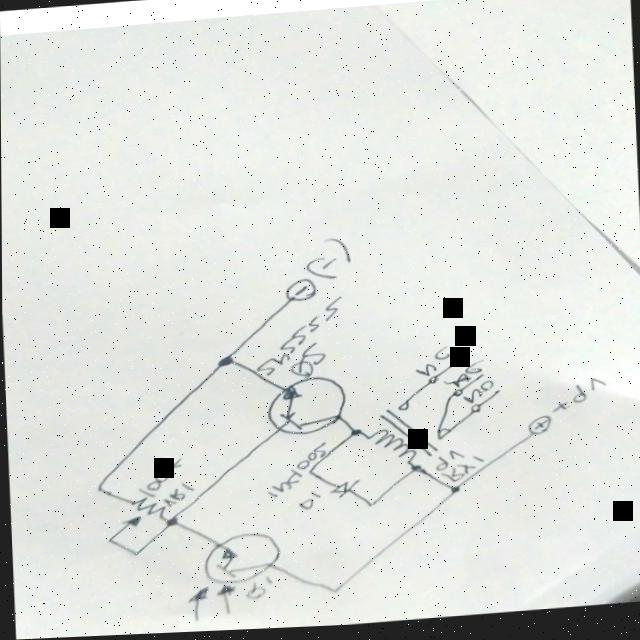diode: (327, 479, 360, 505)
junction: (216, 356, 232, 372), (326, 587, 340, 600), (448, 488, 462, 501), (407, 465, 421, 478), (128, 548, 142, 561), (102, 535, 116, 548), (363, 502, 377, 514), (303, 469, 317, 481), (348, 429, 362, 441), (164, 518, 178, 530), (92, 483, 106, 495)
resistor: (119, 493, 166, 534)
terminal: (282, 279, 317, 309), (525, 418, 552, 442), (444, 364, 456, 376), (475, 376, 487, 387), (492, 391, 504, 402)
text: (251, 297, 347, 387), (264, 443, 330, 502), (135, 456, 196, 513), (302, 238, 352, 286), (547, 380, 607, 419), (434, 451, 486, 490), (412, 347, 451, 383), (450, 362, 485, 392), (460, 383, 493, 410), (243, 578, 274, 606), (295, 493, 322, 517)
transistor: (185, 531, 285, 627), (264, 376, 348, 444)
